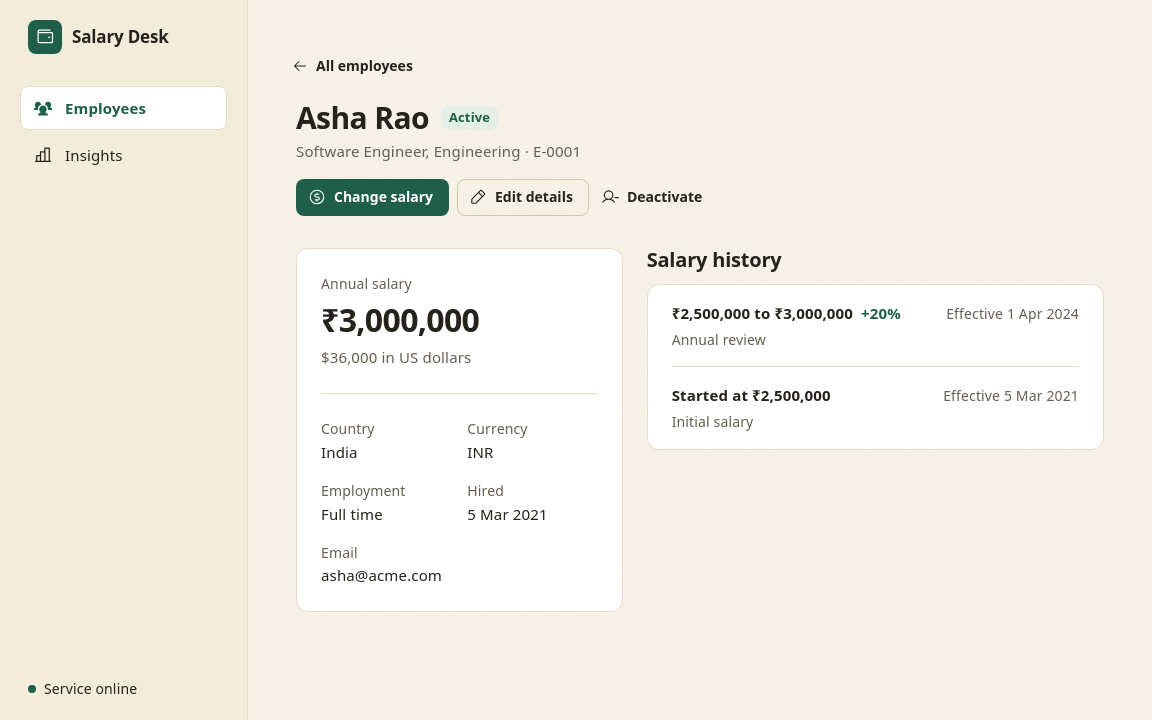
Change salary dialog › shows field errors returned by the API next to the input
Click the button "Change salary" at (372, 197), box [296,179,449,216]
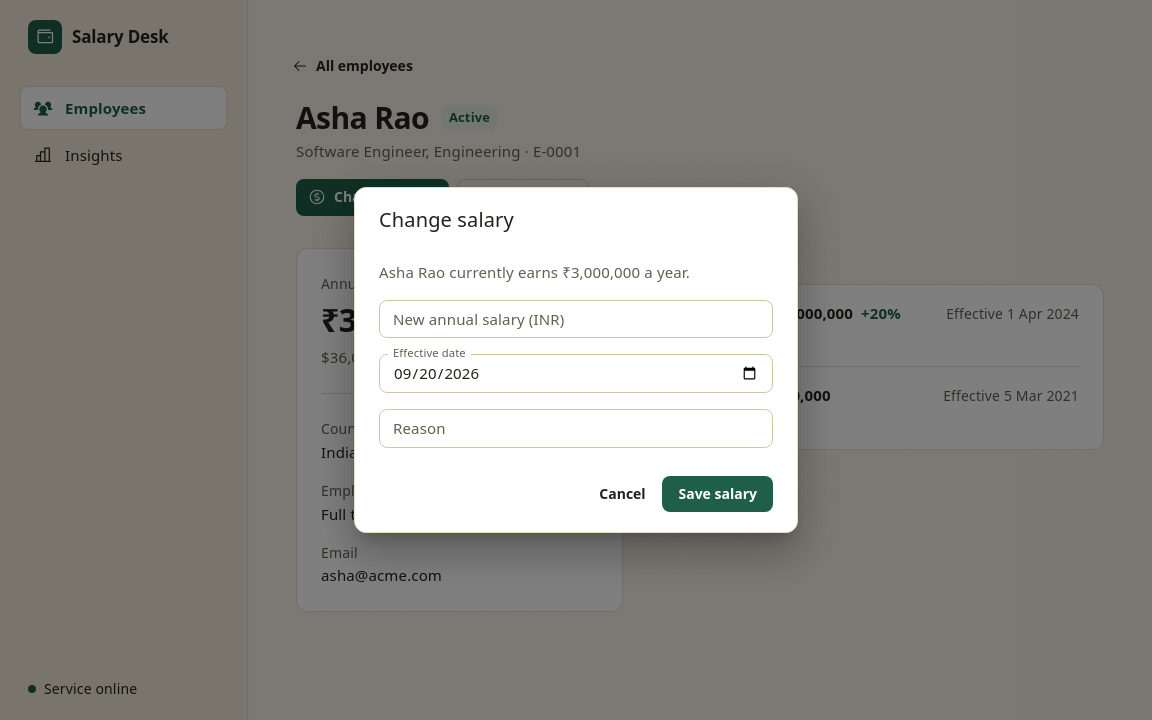
Type "3300000" into the field labelled "New annual salary (INR)" at (576, 319), box [379,300,773,338]
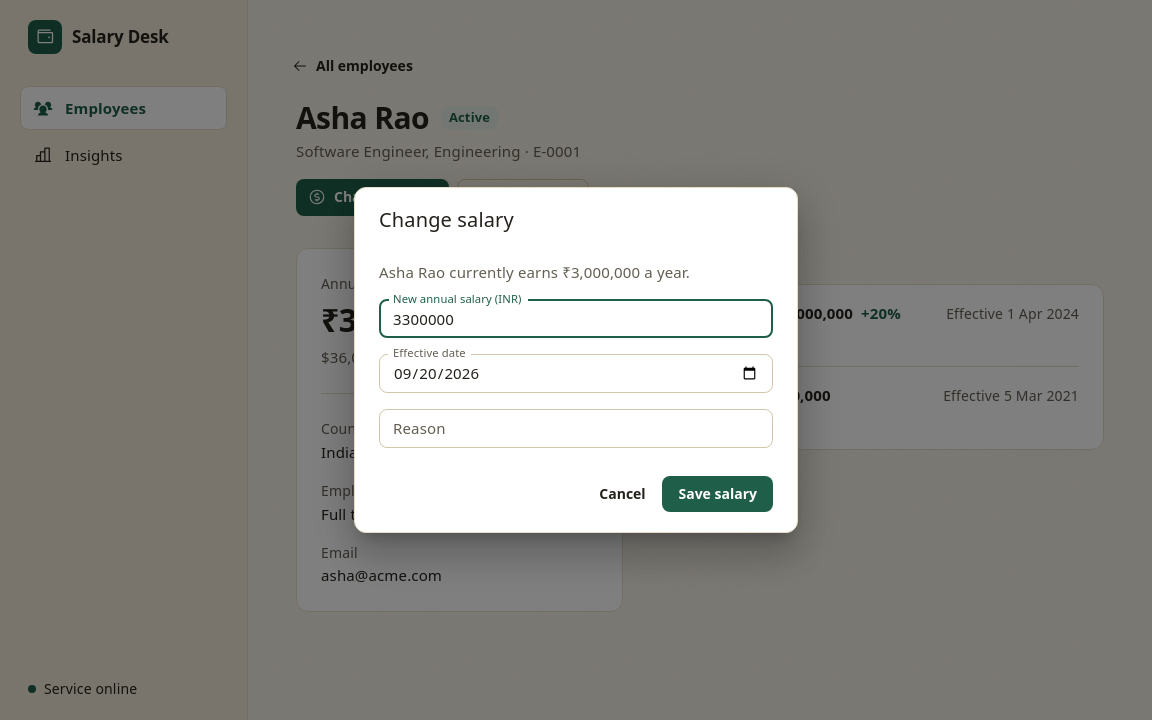
Type "x" into the field labelled "Reason" at (576, 428), box [379,409,773,448]
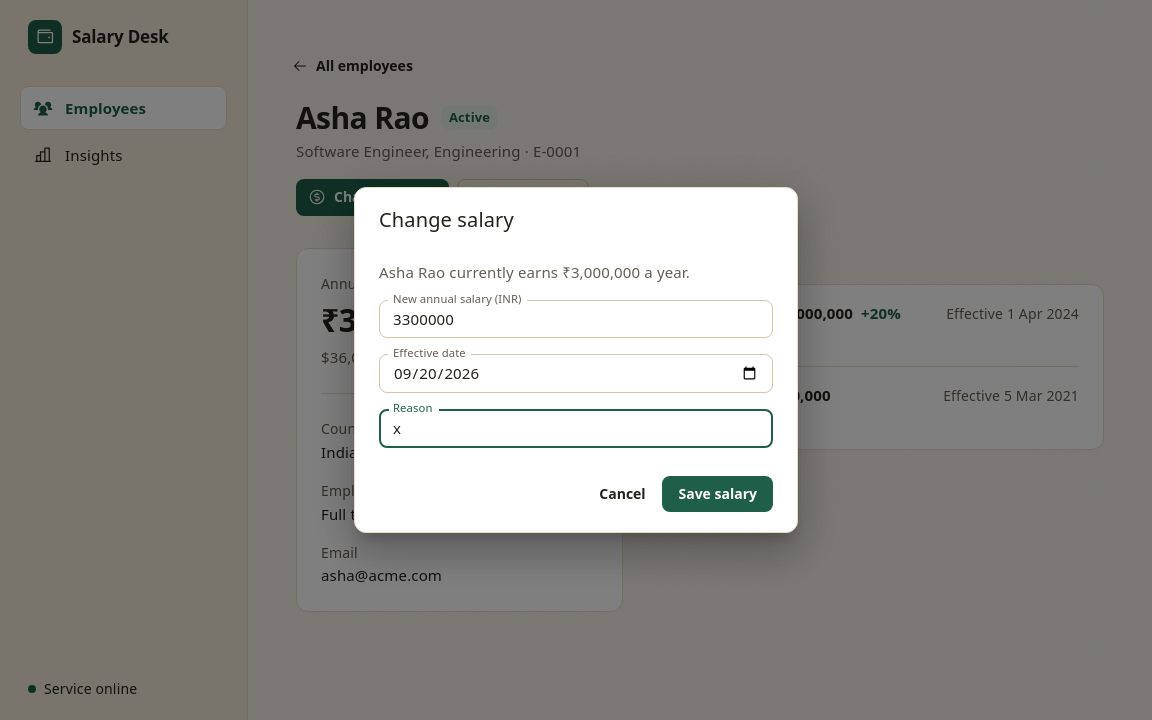
Click the button "Save salary" at (718, 494), box [662,476,773,512]
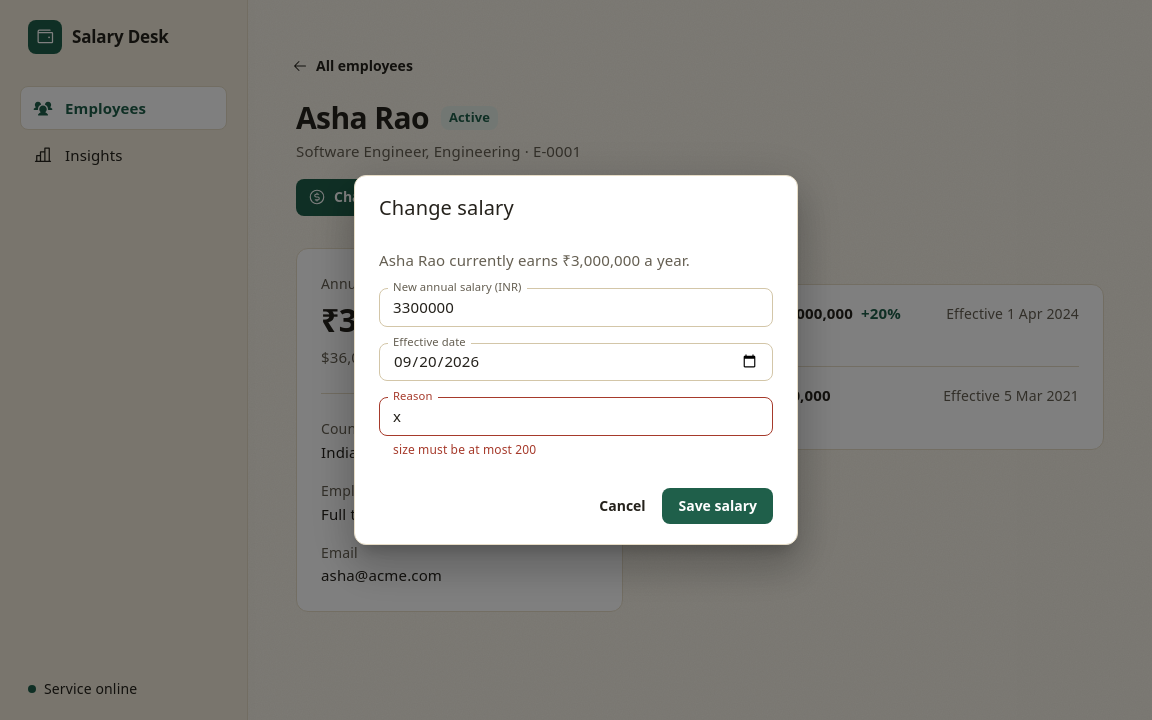
Result: the text "size must be at most 200" is shown at [393,441,536,458]
